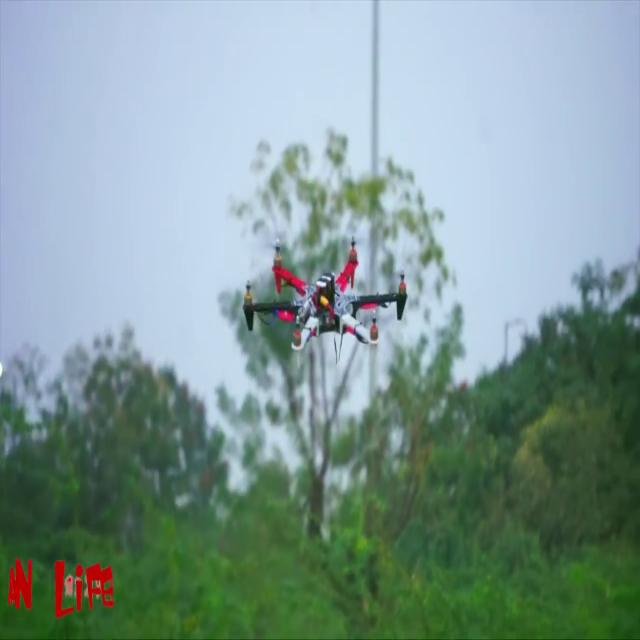drone: (197, 233, 434, 364)
